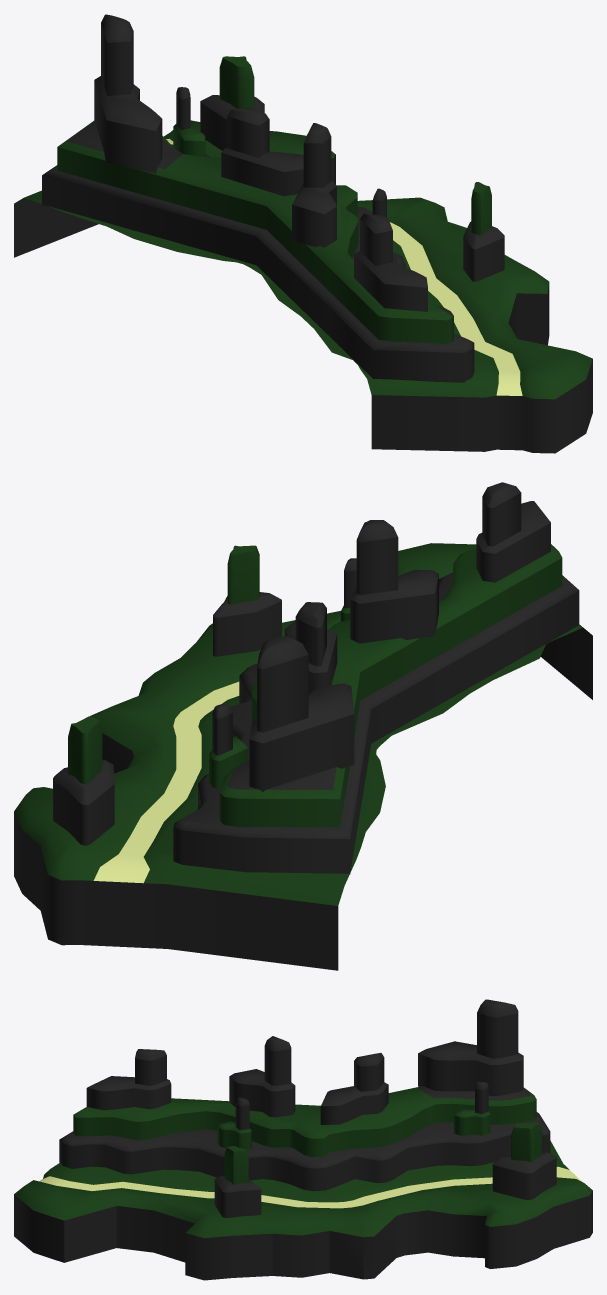
The model's file is Cliffside.fbx.
3 views of the same model, one above another, from view 1: azimuth 30°, elevation 25°; view 2: azimuth 150°, elevation 25°; view 3: azimuth 270°, elevation 25° (orthographic). The views are drawn at different scales.
Visible parts, largest first — view 1: CliffsideTop, CliffsideBase; view 2: CliffsideTop, CliffsideBase; view 3: CliffsideTop, CliffsideBase.
Boxes of the visible parts, box(x1,y1,x2,y2) form: CliffsideTop: box(42, 14, 504, 382); CliffsideBase: box(14, 120, 592, 453); CliffsideTop: box(53, 482, 579, 874); CliffsideBase: box(14, 543, 592, 970); CliffsideTop: box(59, 999, 556, 1217); CliffsideBase: box(14, 1140, 592, 1280).
Bounding box in the file's own units: 26.82 × 18.9 × 53.69.
